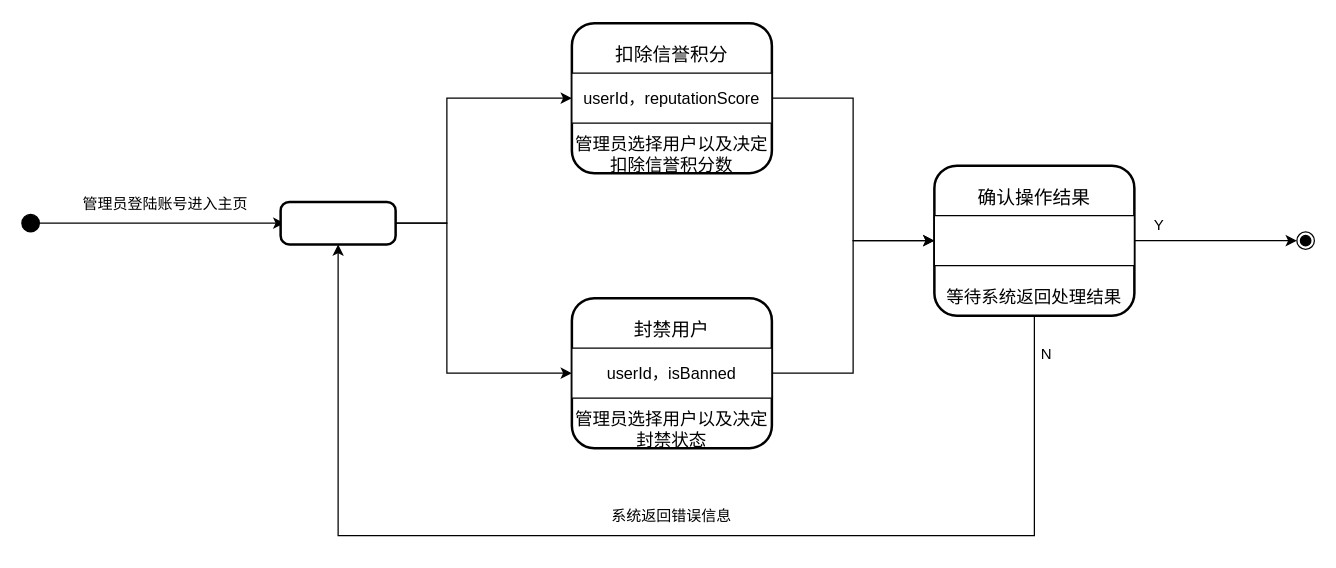
The diagram is 1336 pixels wide and 568 high, and some of its shapes have lost their labels. The shapes that lost their labels are listed below. From the top down, each one's box as (x1, y1, x2, y2) in pixels, then its label:
(279, 200, 396, 245): 管理员选择操作
(933, 214, 1134, 266): userId，reputationScore，isBanned
